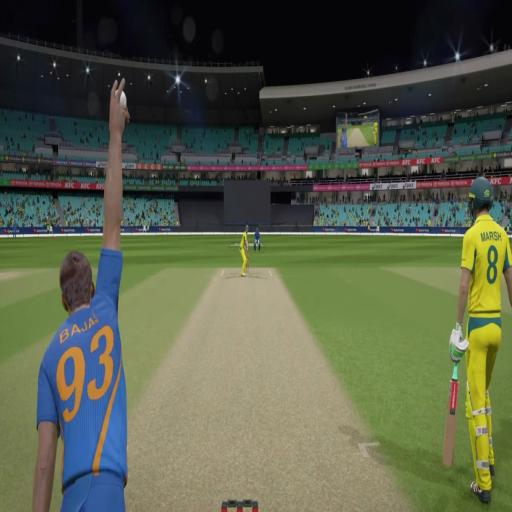ball: (120, 90, 126, 107), (115, 88, 118, 97)
